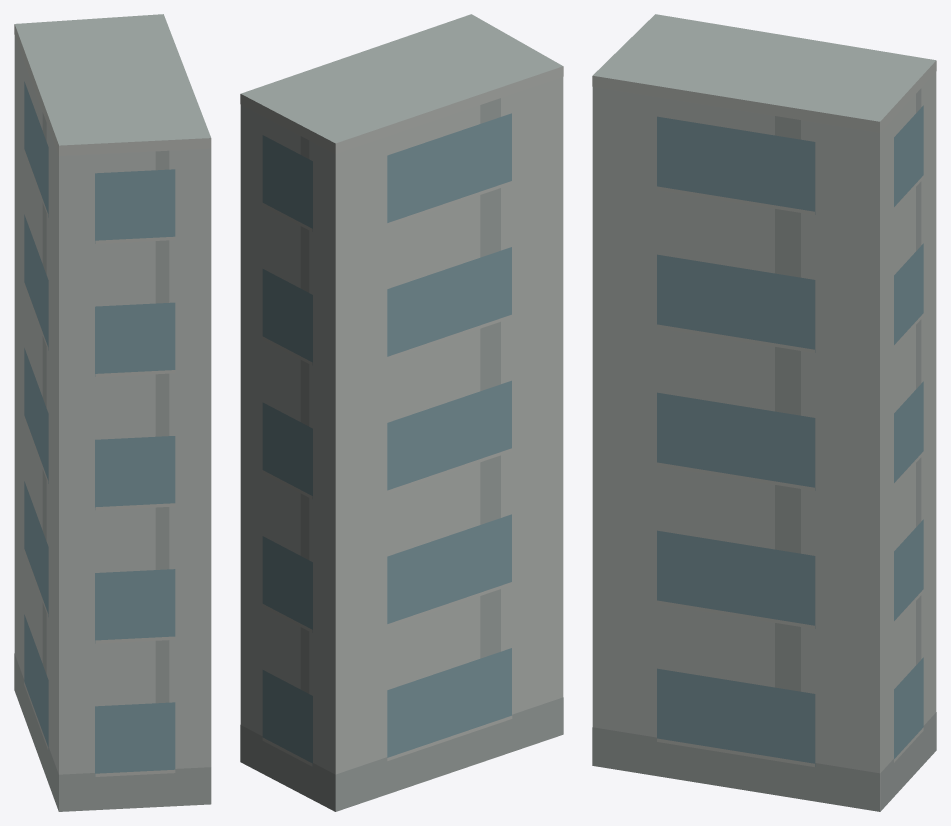
Rendered from survey-upis-33025532.glb.
3 renders of one model, left to right at view 1: azimuth 30°, elevation 25°; view 2: azimuth 150°, elevation 25°; view 3: azimuth 270°, elevation 25°, orthographic. The views are drawn at different scales.
Parts seen in each view (by area): view 1: survey-upis-33025532.tmp; view 2: survey-upis-33025532.tmp; view 3: survey-upis-33025532.tmp.
Boxes of the visible parts, left/top/right/bottom form: survey-upis-33025532.tmp: left=14, top=14, right=211, bottom=811; survey-upis-33025532.tmp: left=240, top=14, right=563, bottom=811; survey-upis-33025532.tmp: left=592, top=14, right=936, bottom=811.
Bounding box in the file's own units: 5.12 × 15.25 × 6.9.
